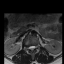CCS_normal: (30, 44, 33, 52)
LFS_normal: (35, 44, 37, 49)
LLS_normal: (33, 44, 35, 50)
RFS_normal: (27, 45, 29, 51)
RLS_normal: (29, 44, 31, 50)
